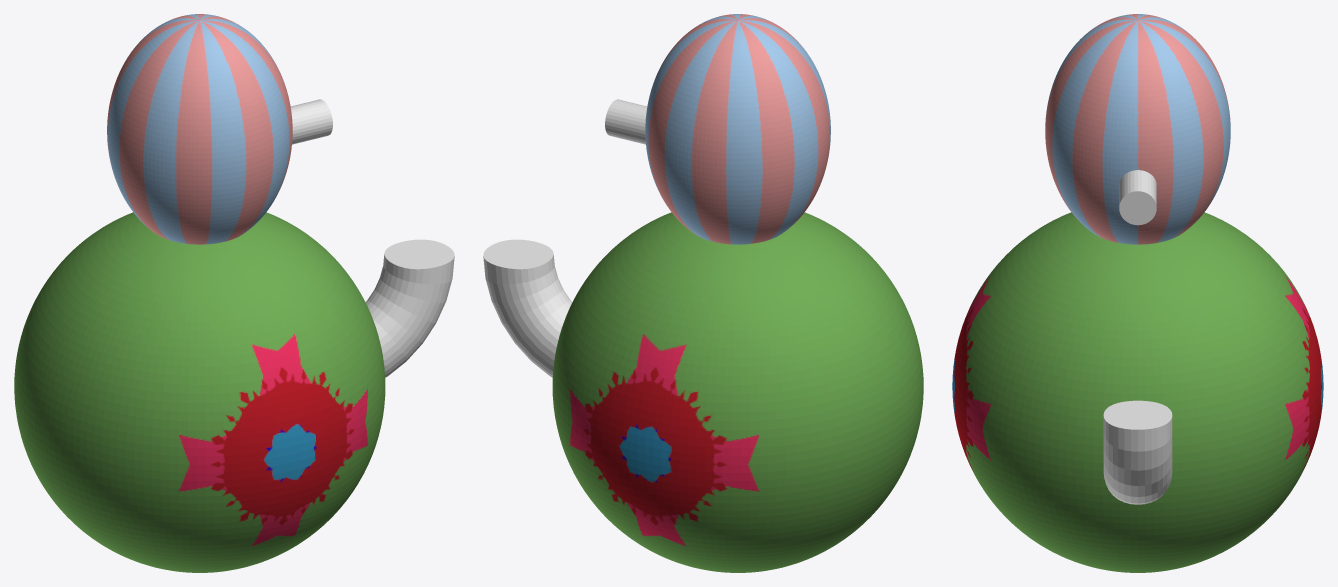
File: BOD0_BMC7_BCC7_BPT3_FRC2_HEA2_HMC11_HCC15_HPT2_ELT0_ERT1_ELL1_ERL0_AP2_AAL1_AAR0_BEK0.fbx
3 views of the same model, side by side, from view 1: azimuth 30°, elevation 25°; view 2: azimuth 150°, elevation 25°; view 3: azimuth 270°, elevation 25° (orthographic).
Parts seen in each view (by area): view 1: Body, Arm, Ear; view 2: Body, Arm, Ear; view 3: Body, Arm, Ear.
Boxes of the visible parts, <box> form: Body: <box>14,14,385,572</box>; Arm: <box>365,239,454,377</box>; Ear: <box>290,99,332,144</box>; Body: <box>552,14,923,572</box>; Arm: <box>483,239,572,377</box>; Ear: <box>605,99,647,144</box>; Body: <box>952,14,1323,572</box>; Arm: <box>1103,400,1172,504</box>; Ear: <box>1119,170,1156,225</box>.
Size of the model in its own units: 62.99 by 78.65 by 49.36.
1 material, 1 textured.
